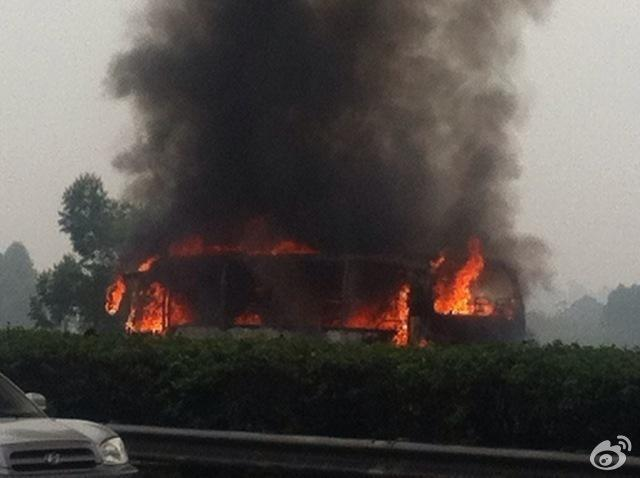fire: (100, 222, 505, 354)
